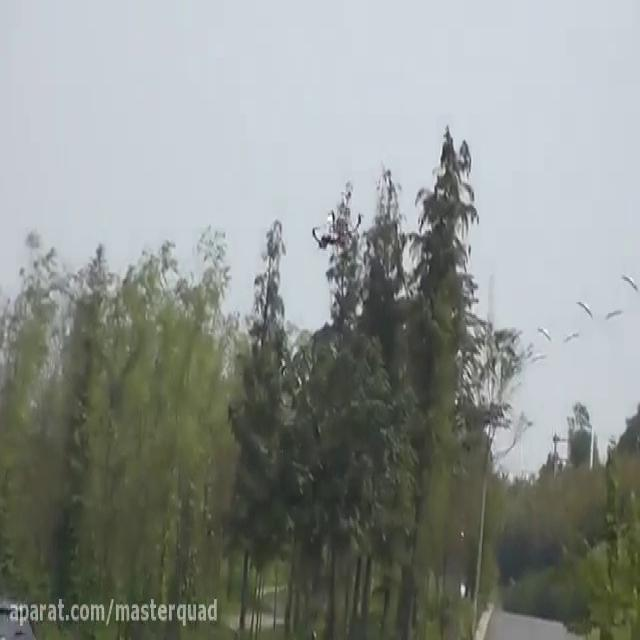drone: (307, 204, 365, 250)
